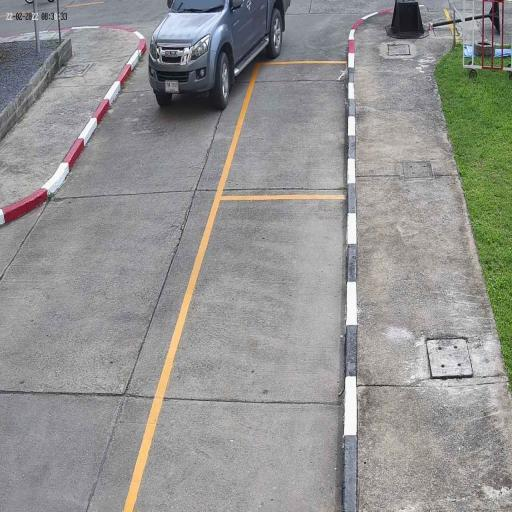car: (147, 0, 293, 110)
